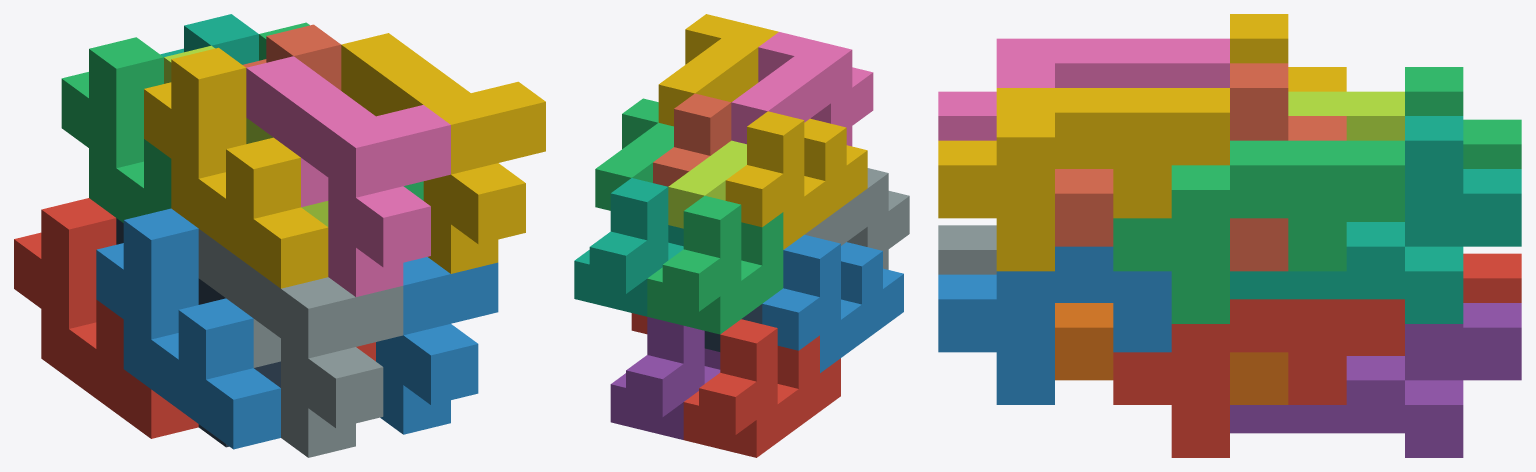
The model's file is tiling.obj.
3 views of the same model, side by side, from view 1: azimuth 30°, elevation 25°; view 2: azimuth 150°, elevation 25°; view 3: azimuth 270°, elevation 25° (orthographic). The views are drawn at different scales.
Parts seen in each view (by area): view 1: copy_2_domain_4, copy_1_domain_2, copy_1_domain_4, copy_2_domain_8, copy_2_domain_2, copy_1_domain_1, copy_2_domain_6, copy_1_domain_3, copy_1_domain_8, copy_1_domain_7, copy_2_domain_3, copy_2_domain_1 (+1 smaller); view 2: copy_1_domain_1, copy_1_domain_3, copy_1_domain_4, copy_1_domain_2, copy_2_domain_4, copy_1_domain_7, copy_1_domain_5, copy_2_domain_8, copy_2_domain_2, copy_2_domain_7, copy_1_domain_8, copy_2_domain_3 (+1 smaller); view 3: copy_2_domain_8, copy_2_domain_7, copy_1_domain_7, copy_2_domain_5, copy_2_domain_6, copy_1_domain_5, copy_2_domain_4, copy_1_domain_8, copy_1_domain_6, copy_1_domain_3, copy_1_domain_4, copy_2_domain_3 (+2 smaller).
Boxes of the visible parts, x1,y1,x2,y2 form: copy_2_domain_4: (246, 56, 450, 296); copy_1_domain_2: (96, 208, 280, 449); copy_1_domain_4: (144, 47, 328, 288); copy_2_domain_8: (341, 33, 545, 273); copy_2_domain_2: (198, 229, 403, 457); copy_1_domain_1: (14, 198, 198, 438); copy_2_domain_6: (376, 257, 498, 434); copy_1_domain_3: (61, 37, 171, 222); copy_1_domain_8: (243, 24, 341, 90); copy_1_domain_7: (160, 14, 258, 64); copy_2_domain_3: (164, 45, 328, 226); copy_2_domain_1: (116, 218, 280, 447); copy_1_domain_1: (683, 319, 840, 457); copy_1_domain_3: (647, 196, 783, 334); copy_1_domain_4: (725, 111, 867, 249); copy_1_domain_2: (762, 234, 903, 372); copy_2_domain_4: (731, 32, 873, 146); copy_1_domain_7: (574, 178, 683, 316); copy_1_domain_5: (610, 317, 720, 439); copy_2_domain_8: (658, 14, 778, 126); copy_2_domain_2: (805, 168, 909, 269); copy_2_domain_7: (595, 98, 673, 210); copy_1_domain_8: (653, 93, 731, 186); copy_2_domain_3: (668, 140, 746, 228); copy_2_domain_8: (938, 88, 1229, 271); copy_2_domain_7: (1113, 140, 1404, 323); copy_1_domain_7: (1230, 116, 1521, 323); copy_2_domain_5: (1113, 299, 1404, 457); copy_2_domain_6: (938, 246, 1171, 404); copy_1_domain_5: (1230, 303, 1521, 457); copy_2_domain_4: (938, 38, 1229, 140); copy_1_domain_8: (1055, 63, 1346, 271); copy_1_domain_6: (1055, 303, 1288, 404); copy_1_domain_3: (1346, 67, 1521, 221); copy_1_domain_4: (1055, 14, 1346, 168); copy_2_domain_3: (1288, 91, 1404, 140).
Size of the model in its own units: 6 by 7 by 10.
